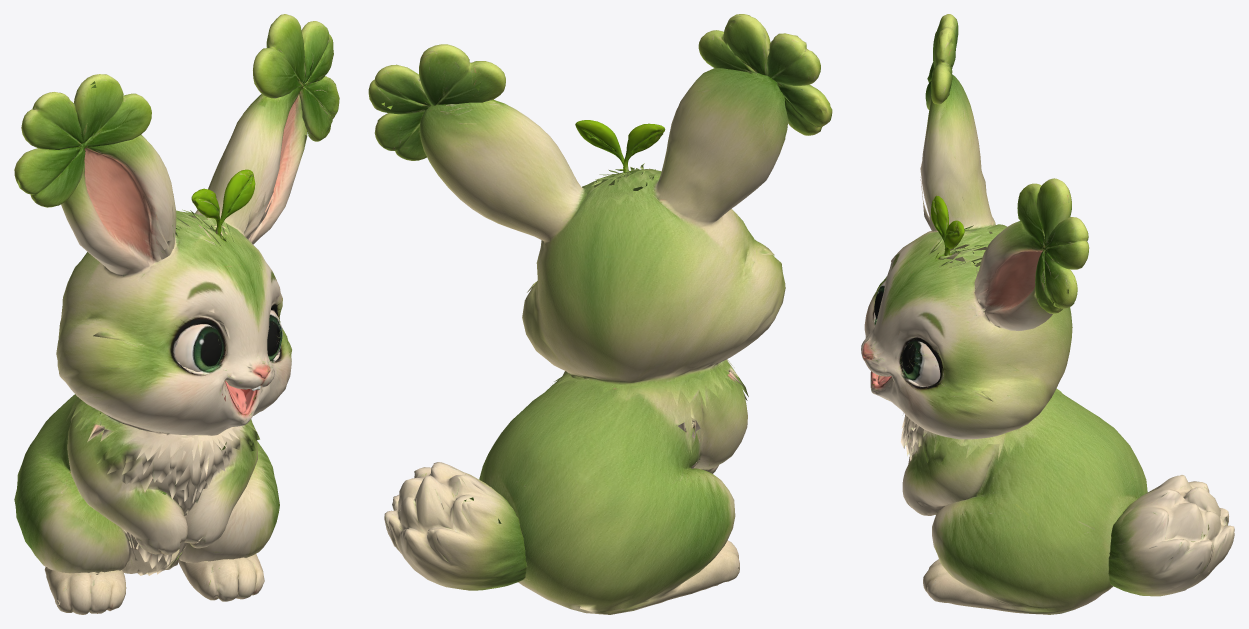
The model's file is sproutbun.glb.
3 renders of one model, left to right at view 1: azimuth 30°, elevation 25°; view 2: azimuth 150°, elevation 25°; view 3: azimuth 270°, elevation 25°, orthographic. The views are drawn at different scales.
Parts seen in each view (by area): view 1: sproutbun; view 2: sproutbun; view 3: sproutbun.
Boxes of the visible parts, left/top/right/bottom form: sproutbun: left=14, top=14, right=339, bottom=614; sproutbun: left=368, top=14, right=832, bottom=614; sproutbun: left=861, top=14, right=1234, bottom=614.
Size of the model in its own units: 0.741 by 1 by 0.6697.
Materials: 1 (1 with a texture image).
